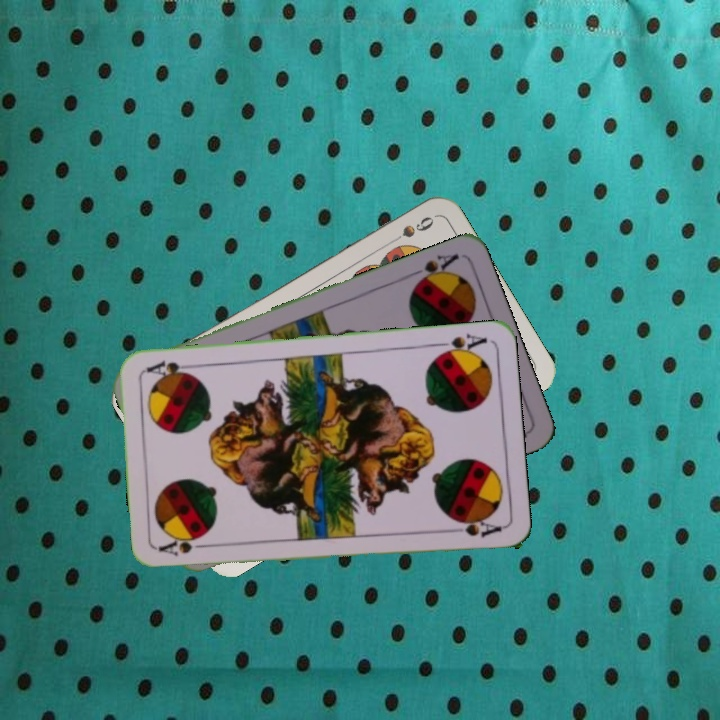S9: (394, 212, 437, 241)
SA: (405, 249, 462, 289), (431, 329, 490, 359), (156, 538, 215, 559)
